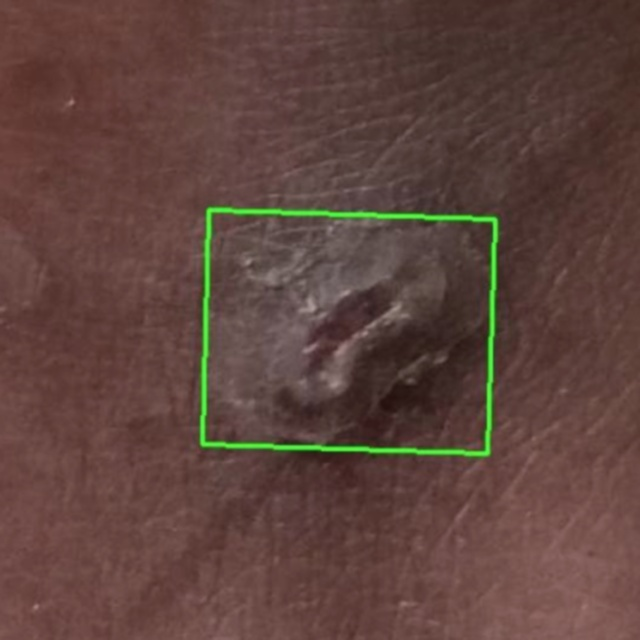Eczema: (203, 211, 495, 453)
